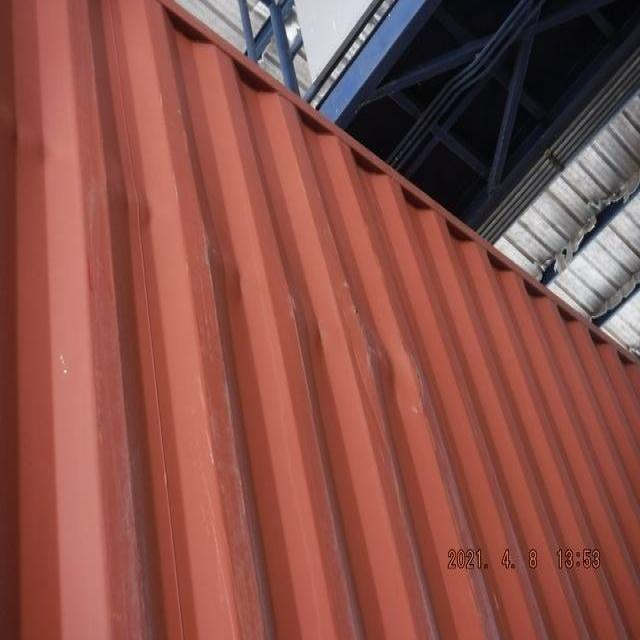dent: (345, 300, 445, 454), (12, 121, 66, 181), (209, 237, 250, 301), (115, 176, 159, 232), (294, 301, 334, 358)
